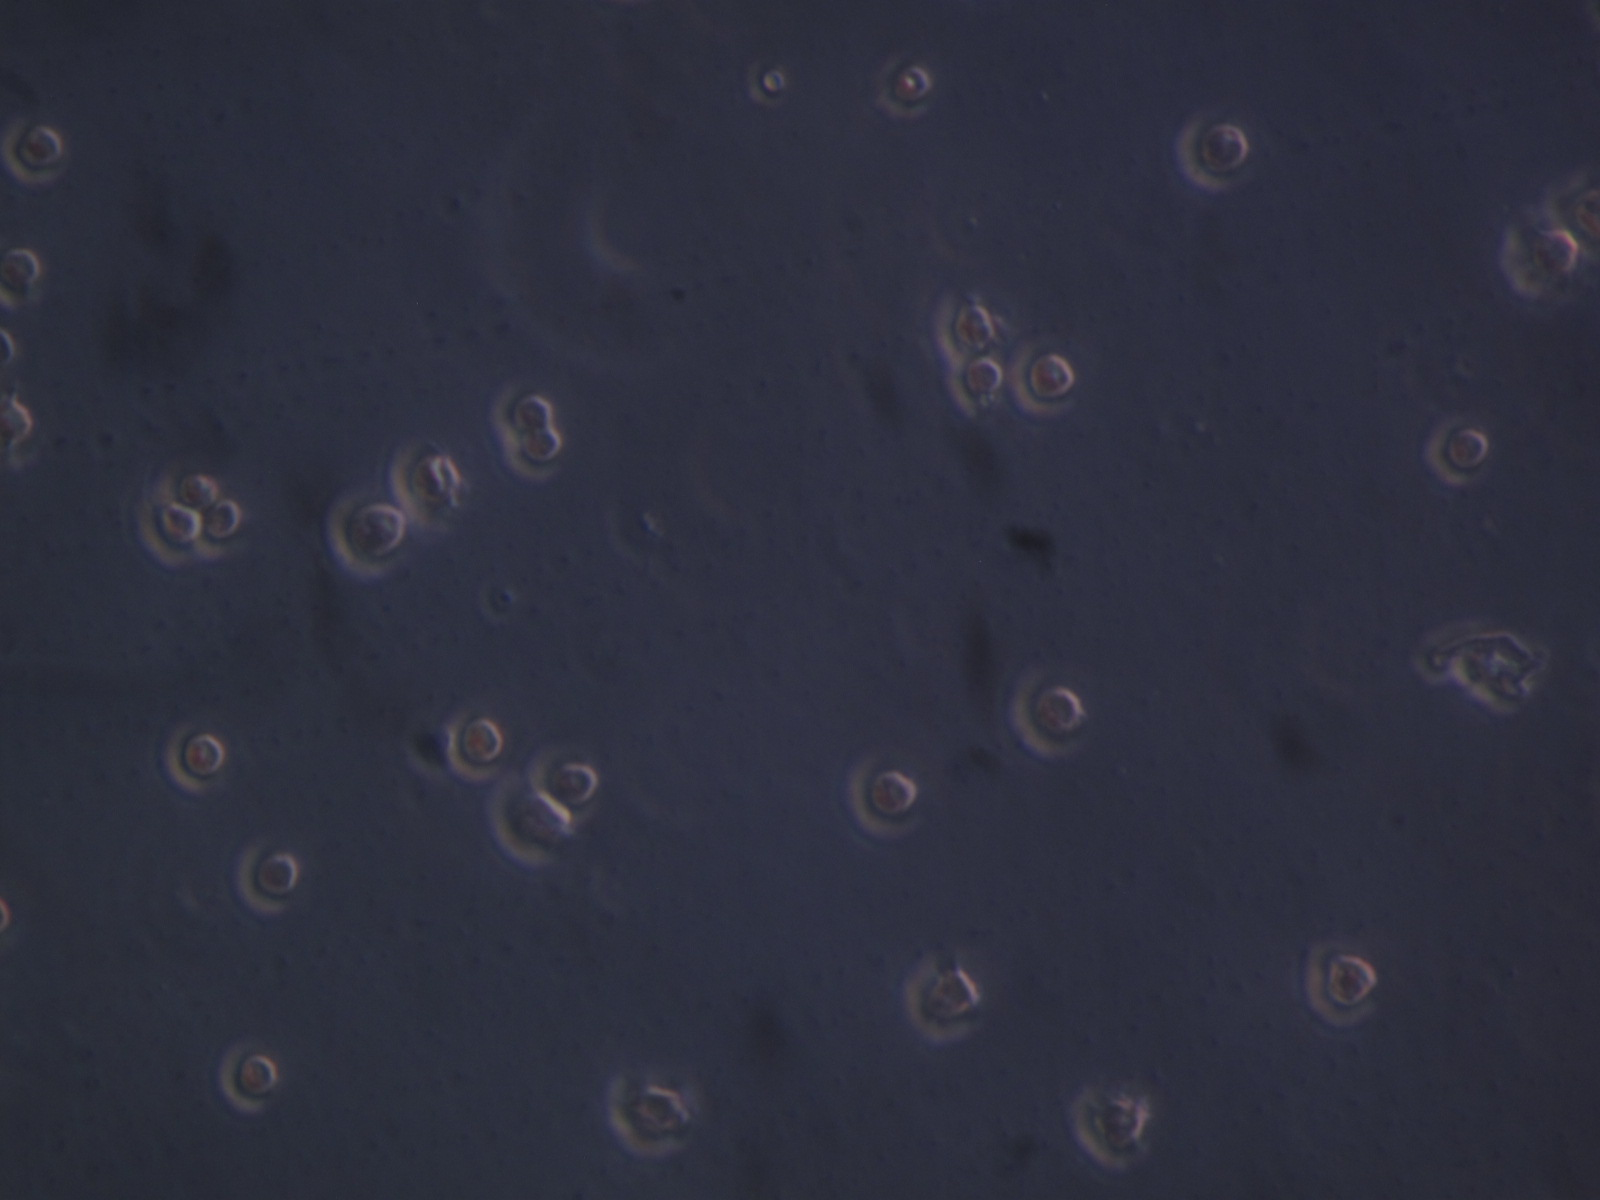hemo: (1495, 202, 1586, 296), (493, 776, 574, 867), (1305, 935, 1381, 1029), (328, 490, 409, 576), (609, 1075, 697, 1155), (386, 435, 459, 531), (905, 952, 979, 1045), (524, 737, 602, 824), (1009, 671, 1085, 758), (845, 755, 925, 836), (1177, 118, 1252, 190), (1012, 333, 1076, 417), (166, 713, 228, 798), (1426, 416, 1498, 484), (238, 842, 301, 918), (3, 117, 72, 184), (215, 1041, 278, 1112), (450, 707, 506, 784), (141, 494, 203, 563), (934, 295, 998, 359), (876, 53, 935, 117), (496, 379, 558, 436), (506, 426, 569, 482), (1, 241, 45, 314), (202, 494, 247, 562), (155, 459, 215, 508), (1, 391, 40, 465), (952, 355, 1002, 413)
